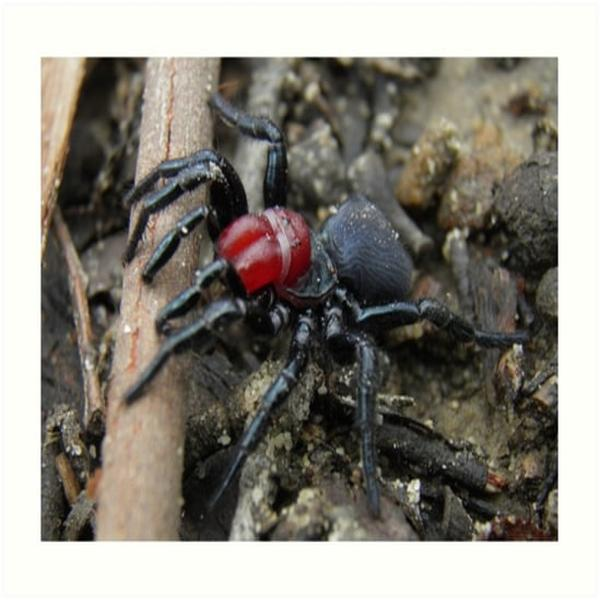Red Headed Mouse Spider: (132, 101, 492, 505)
